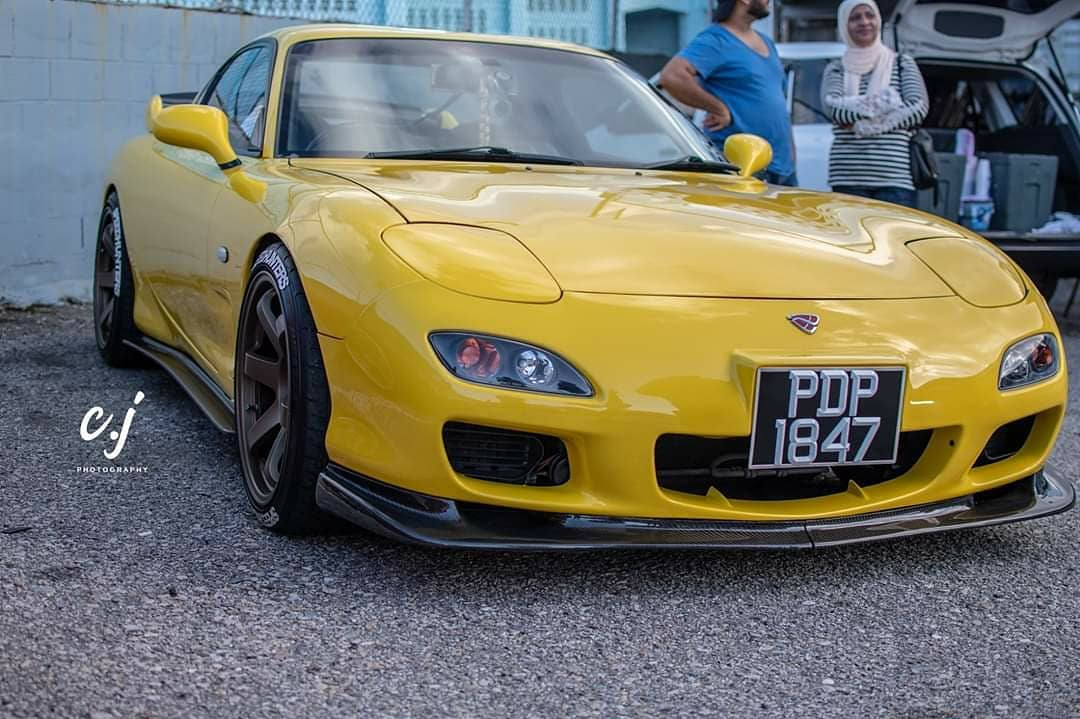License-Plate: (760, 369, 896, 467)
